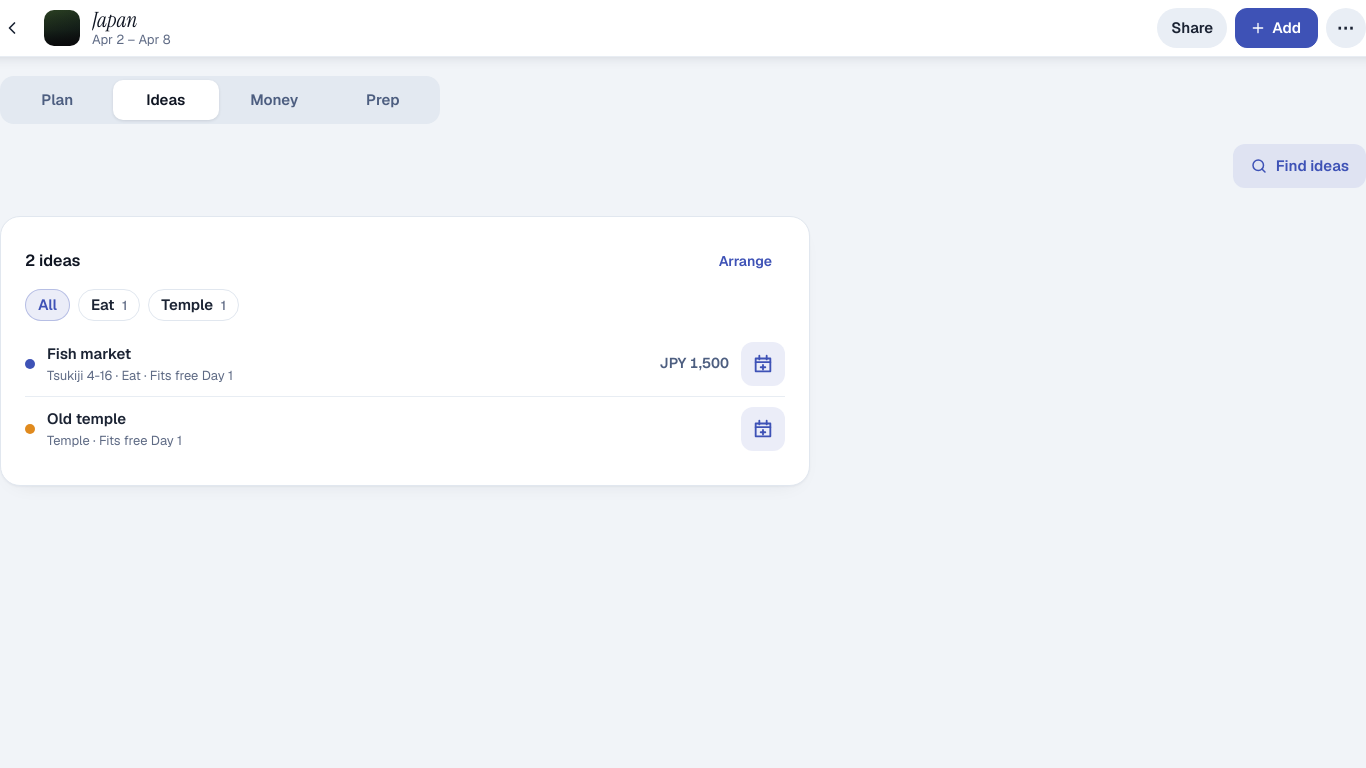
Test: the finder sheet › lists the scopes in a menu, and asks the same question again where it is picked
Click the button "Find ideas" at (1299,166), box [1233,144,1365,188]
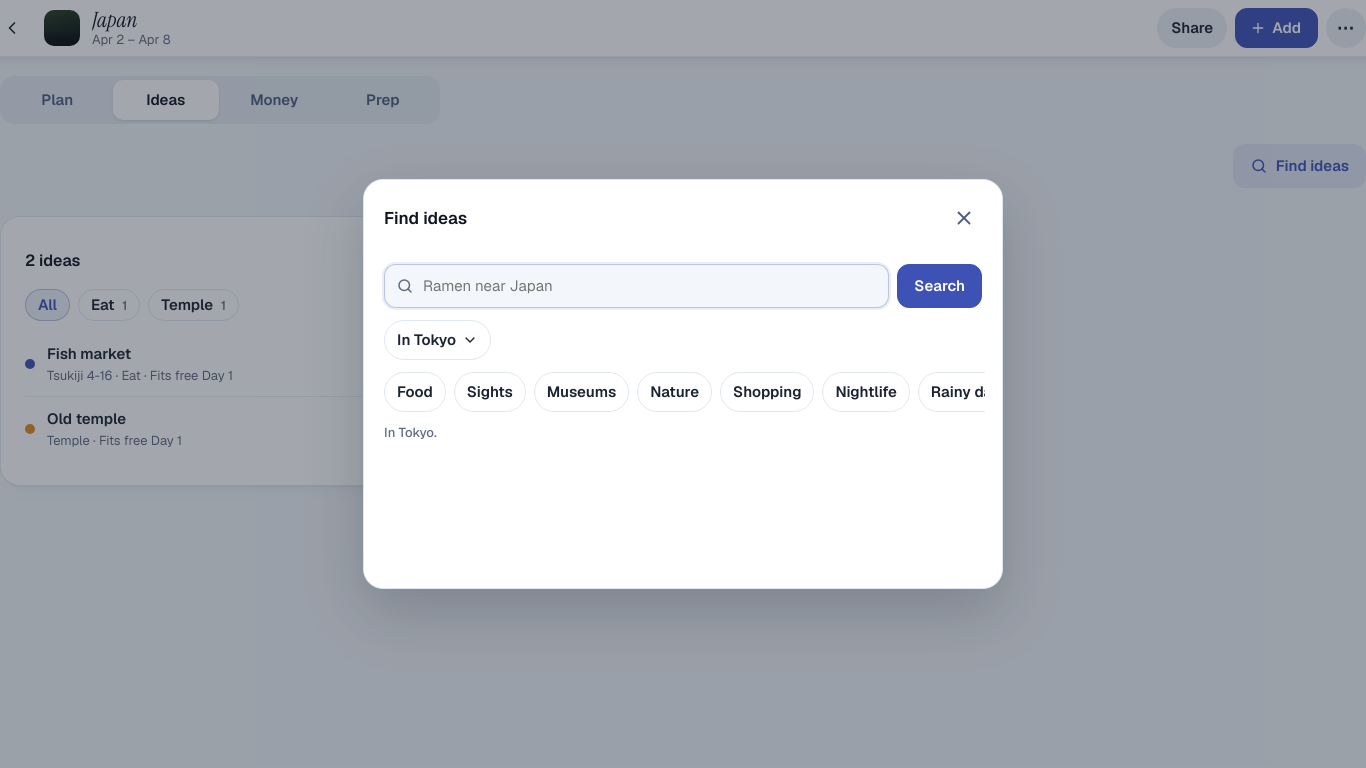
Type "ramen" into the field named "Look for" at (637,286), box [384,264,889,308]
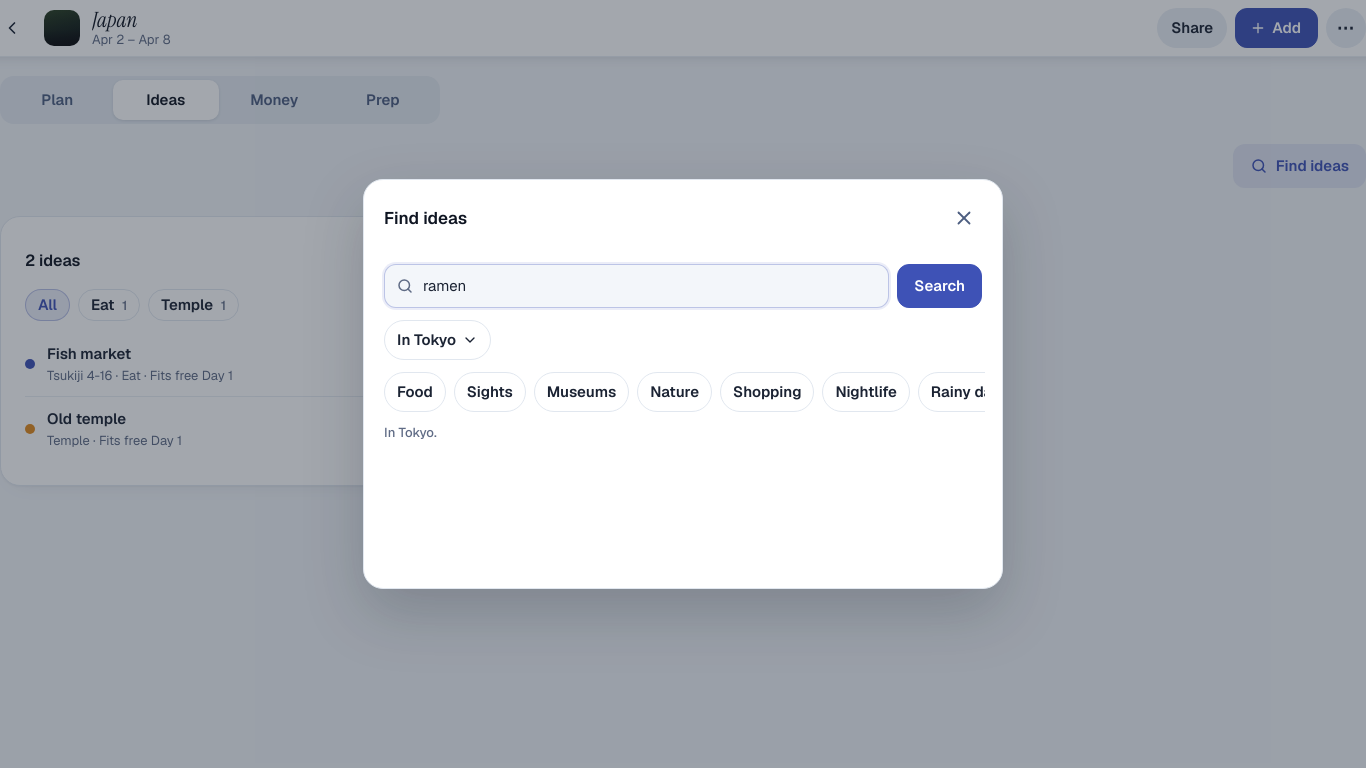
Click the button "Search" at (940,286), box [897,264,982,308]
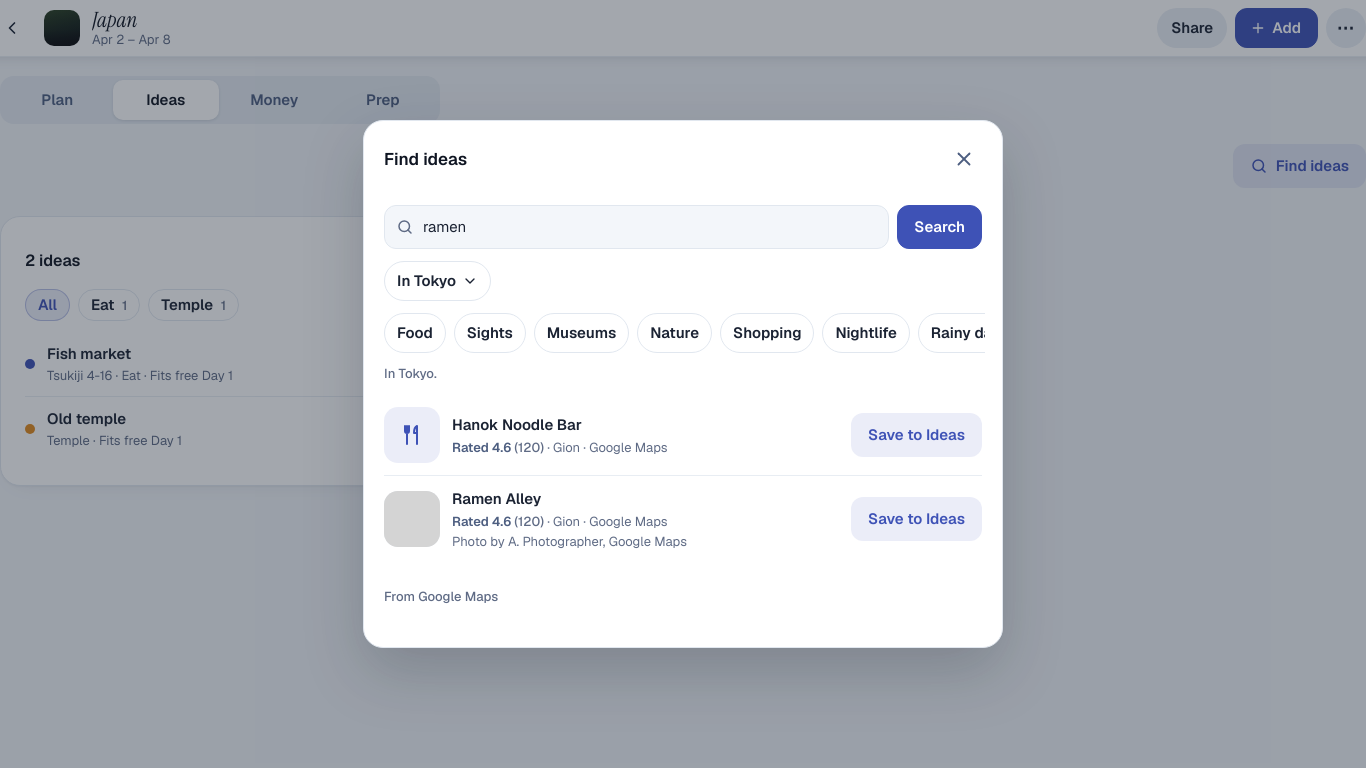
Result: the list named "Google Maps results" is shown at [384,395,982,563]
Click the button with aria-label "Look in: " at (438,281), box [384,261,491,301]
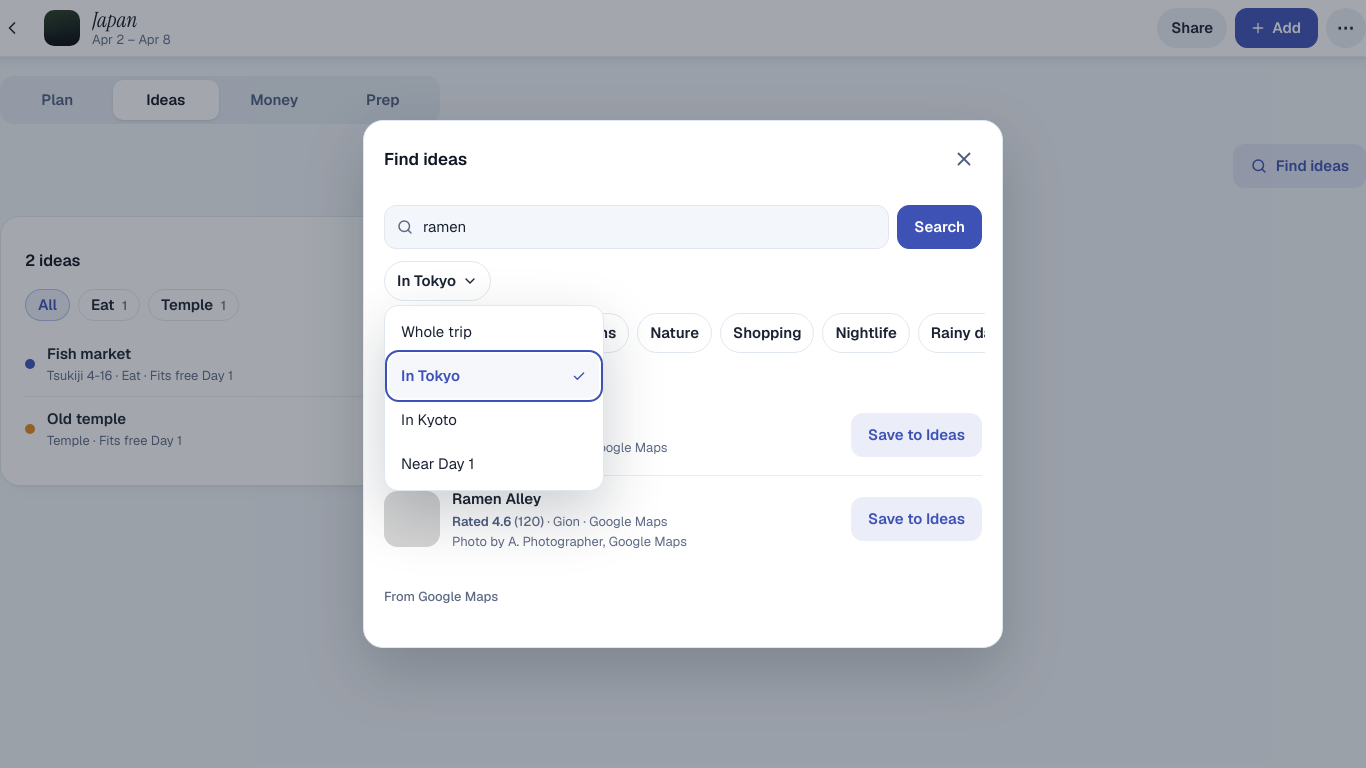
Click the menu item "In Kyoto" at (494,420), box [389,398,599,442]
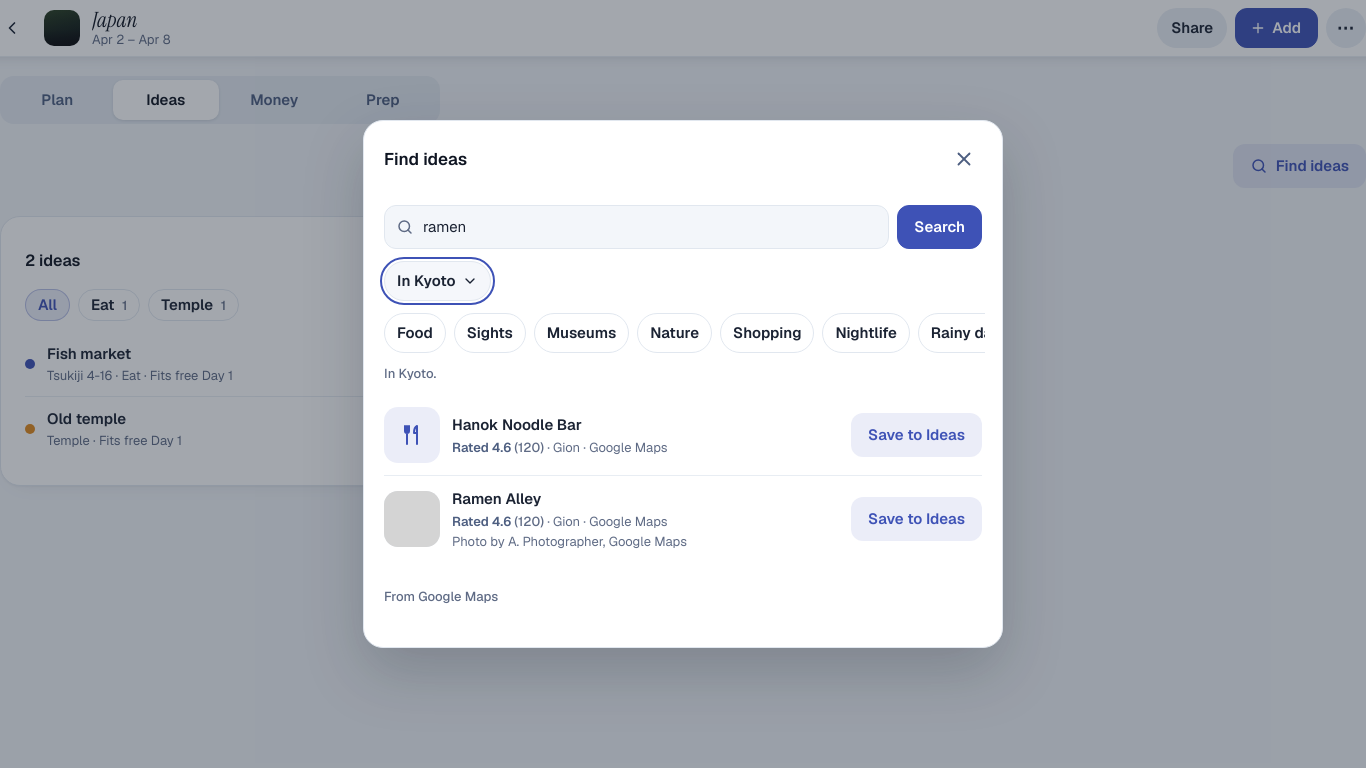
Result: the menu is gone
Result: the button with aria-label "Look in: In Kyoto" is shown at [384,261,491,301]
Result: the text "In Kyoto." is shown at [384,365,436,382]
